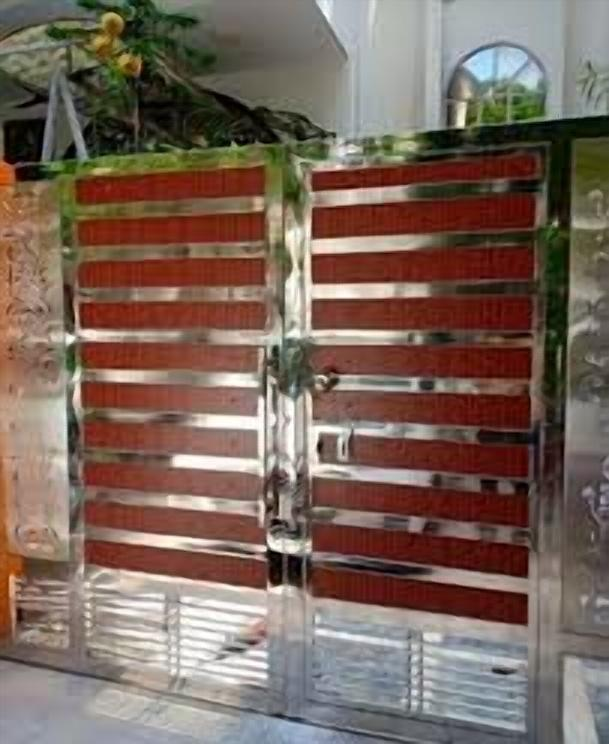Gate: (0, 114, 609, 744)
Window-without-grill: (447, 43, 550, 123)
